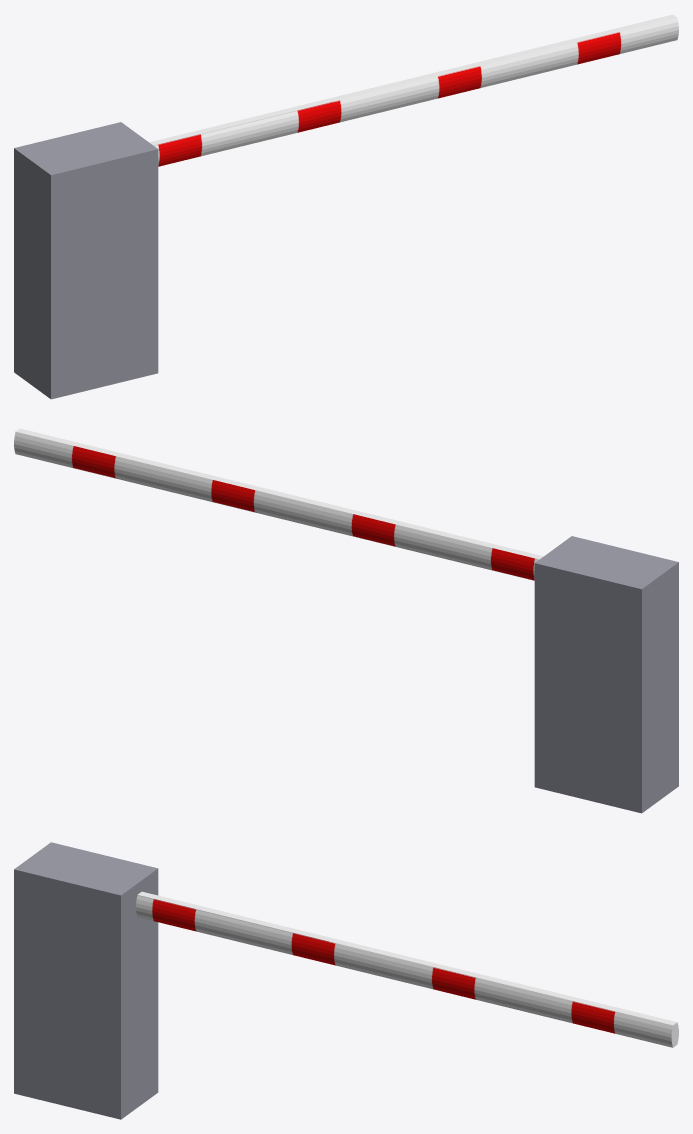
File: schranke.dae
3 renders of one model, top to bottom at view 1: azimuth 30°, elevation 25°; view 2: azimuth 150°, elevation 25°; view 3: azimuth 330°, elevation 25°, orthographic.
Visible parts, largest first — view 1: Cube; view 2: Cube; view 3: Cube.
Part boxes in pixels (<box>): Cube: <box>14,14,678,399</box>; Cube: <box>14,428,678,813</box>; Cube: <box>14,842,678,1119</box>.
Size of the model in its own units: 3 by 0.3 by 1.
Materials: 1 (1 with a texture image).
